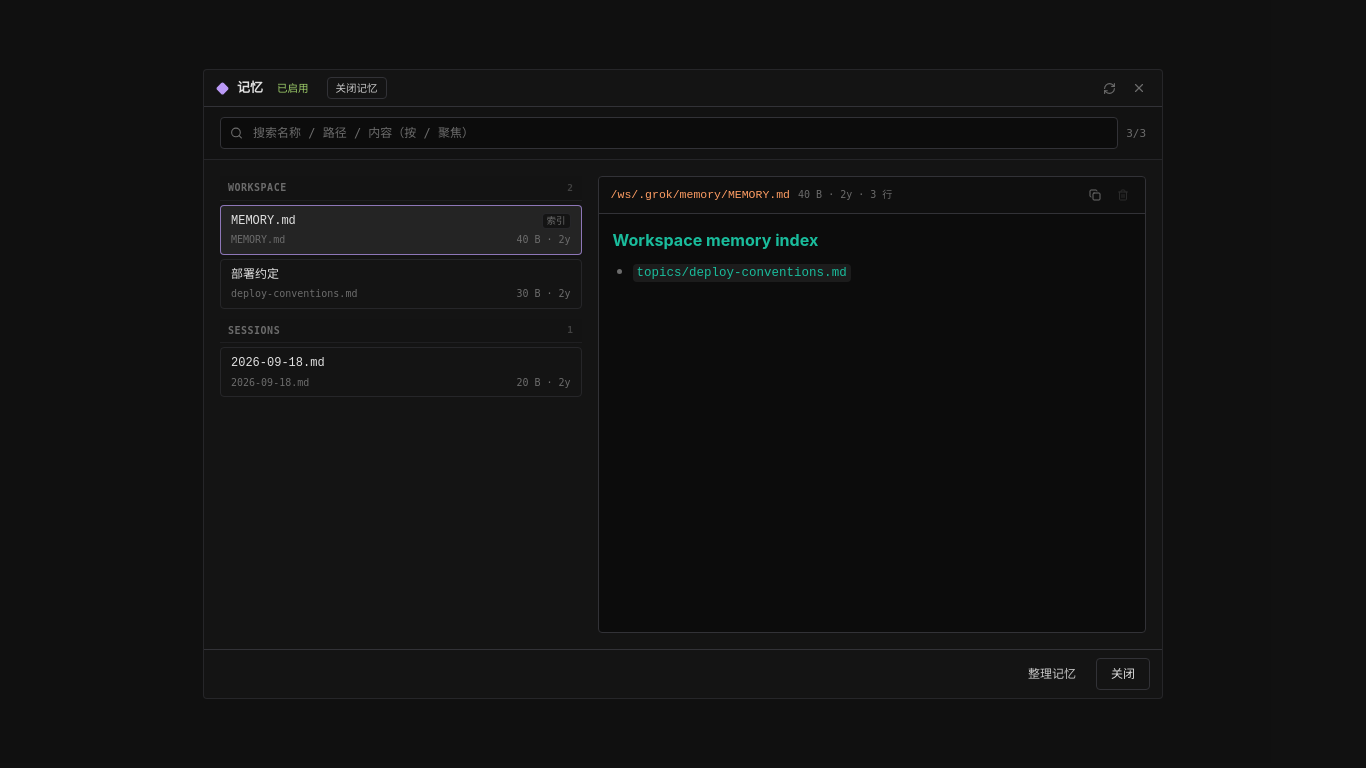
Scenario: MemoryModal › 选中行 → 读取正文并展示；哈希即 BLAKE3(正文)
This screenshot has width=1366, height=768.
Click the text "部署约定". click: (255, 275)
box: [231,268,279,282]
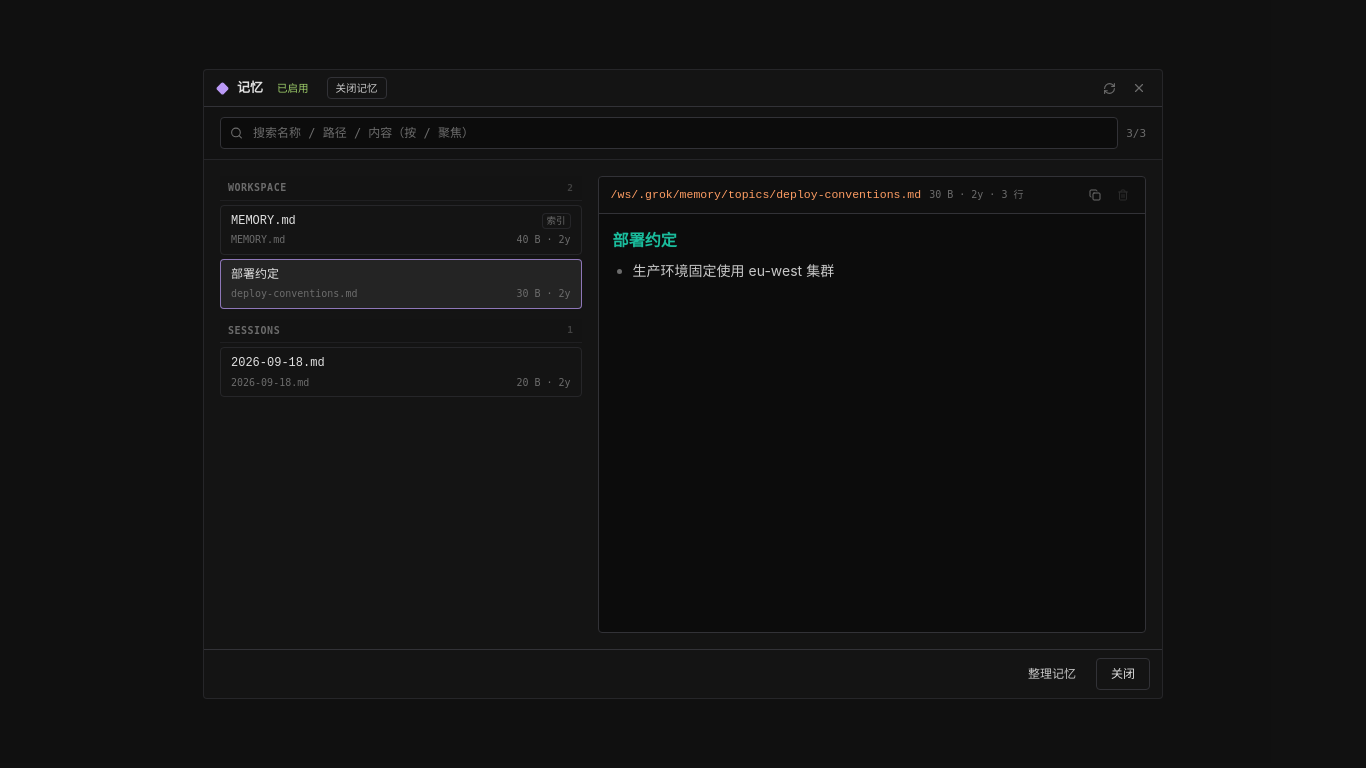
Result: the list item "生产环境固定使用 eu-west 集群" is shown at [633,262,834,279]
